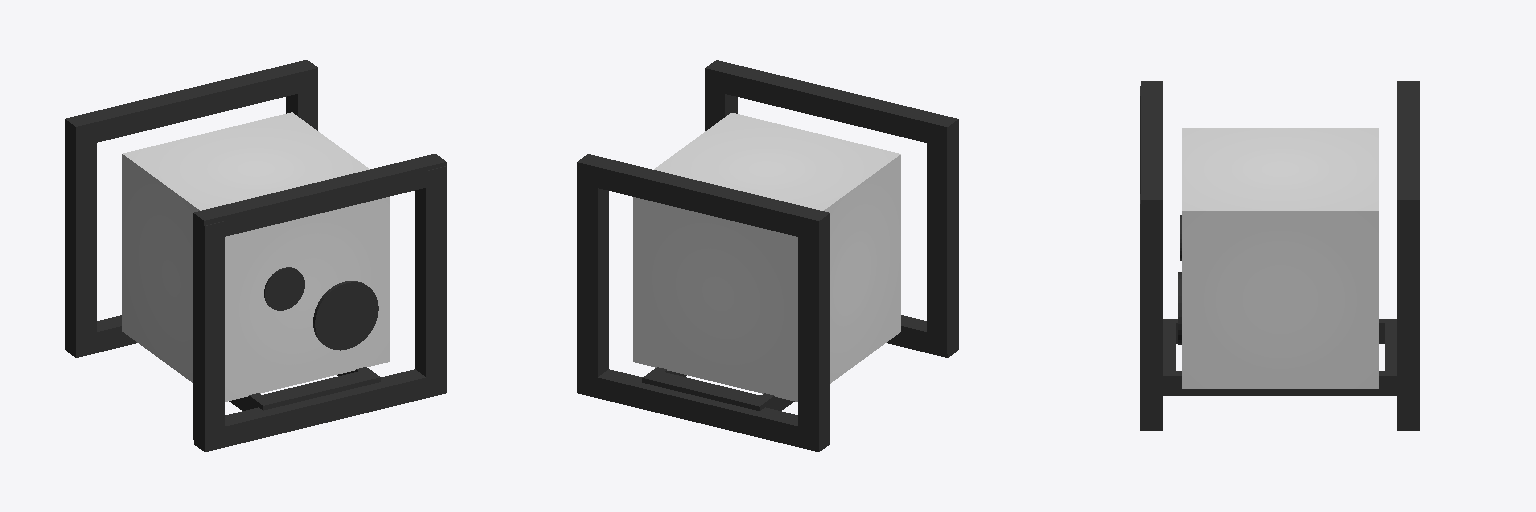
The picture shows the model from 3 angles: view 1: azimuth 30°, elevation 25°; view 2: azimuth 150°, elevation 25°; view 3: azimuth 270°, elevation 25°; orthographic projection.
Parts seen in each view (by area): view 1: Cube_Cube.000; view 2: Cube_Cube.000; view 3: Cube_Cube.000.
Boxes of the visible parts, box(x1,y1,x2,y2) form: Cube_Cube.000: box(65, 60, 446, 451); Cube_Cube.000: box(577, 60, 958, 451); Cube_Cube.000: box(1140, 81, 1419, 430).
Size of the model in its own units: 1.06 by 0.9632 by 1.06.
Materials: 1 (1 with a texture image).